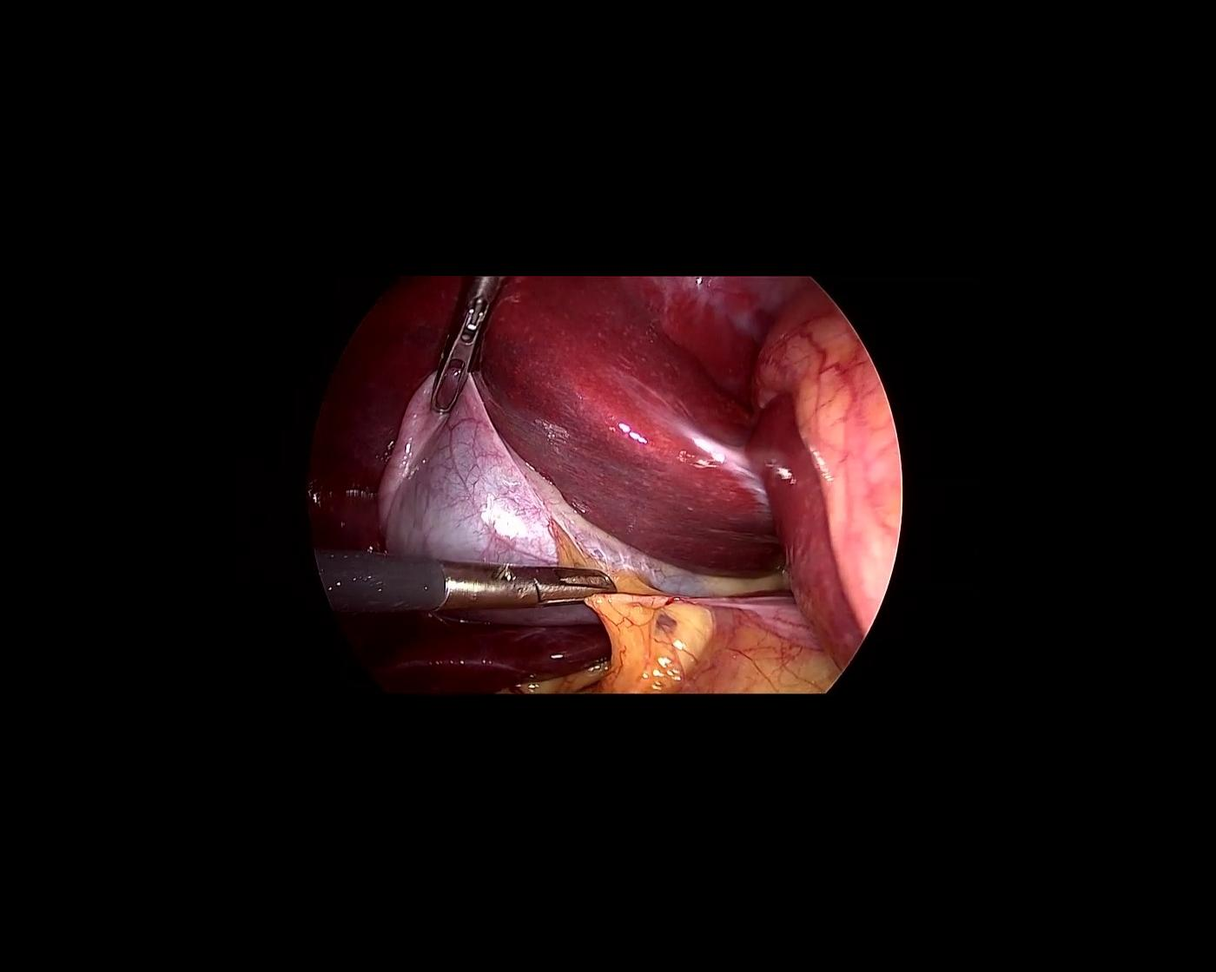Forceps: (312, 551, 619, 629), (418, 265, 505, 420)
Gallbladder: (383, 374, 575, 566)
Liver: (425, 224, 847, 640), (283, 250, 468, 565)
